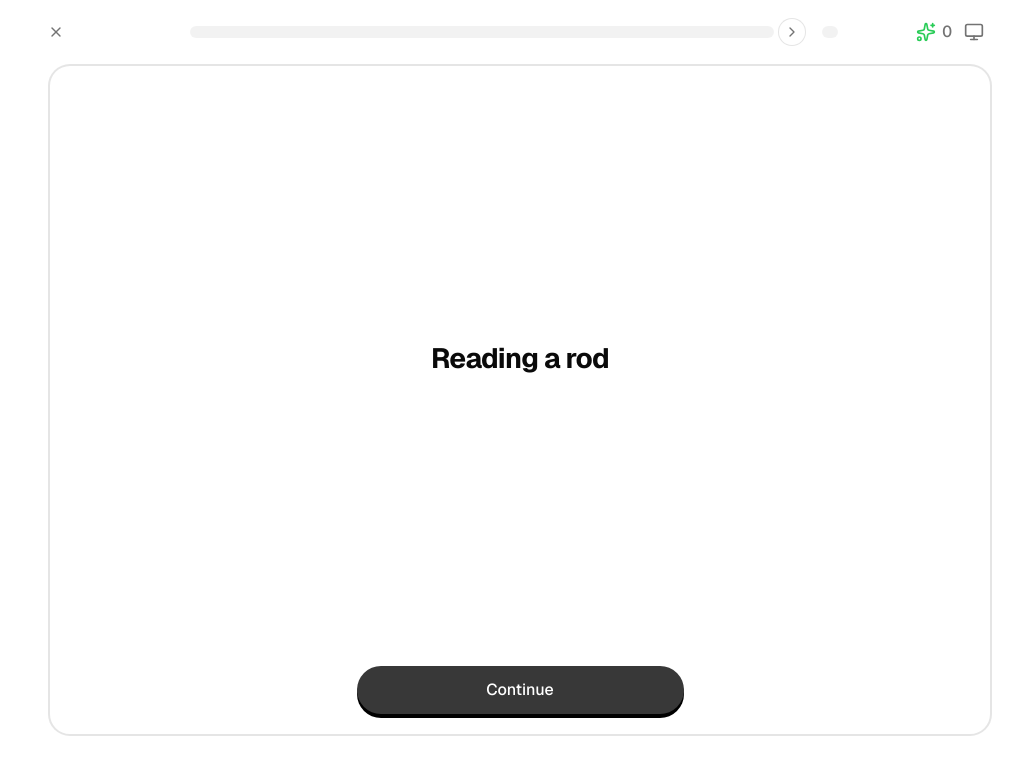
Test: LessonPlayer › walks the explanation step by step beside the question
Step 1. Click the button "Continue" → (520, 690), box [356,666,684,714]
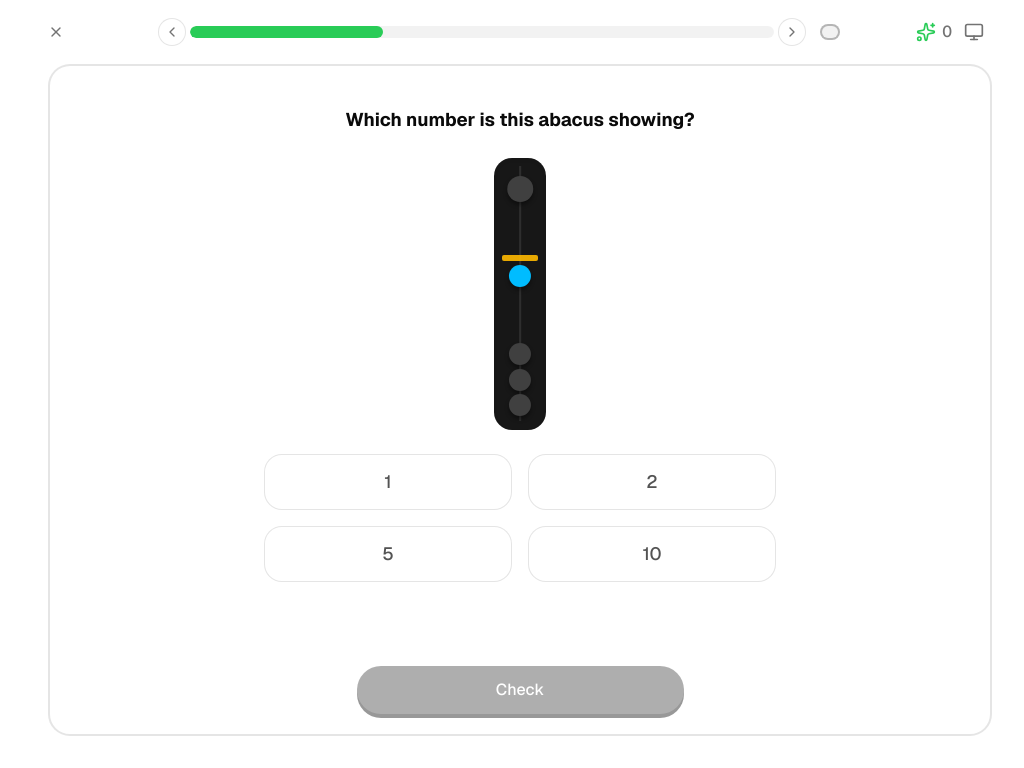
Step 2. Click the button "1" → (388, 482), box [264,454,512,510]
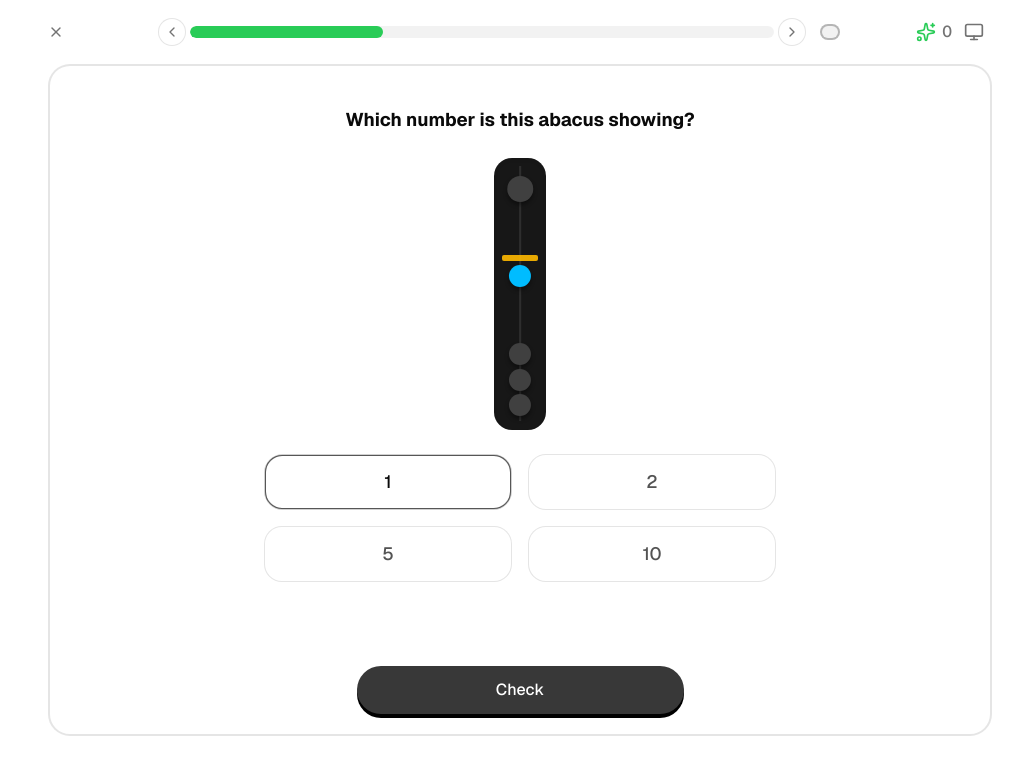
Step 3. Click the button "Check" → (520, 690), box [356,666,684,714]
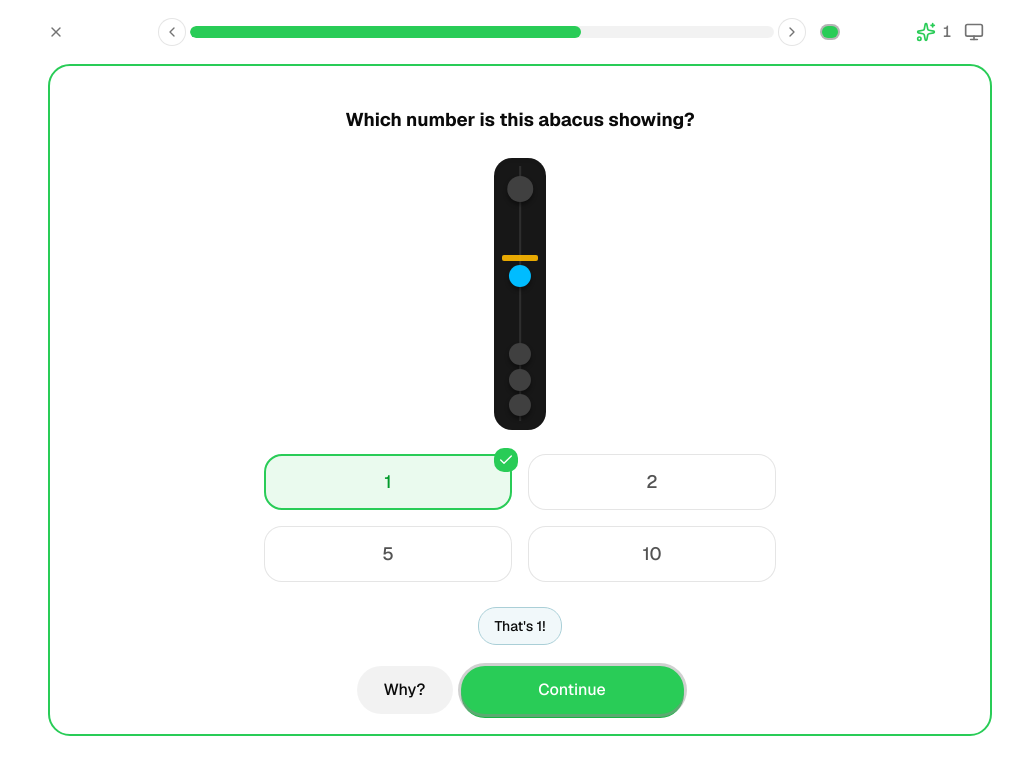
Step 4. Click the button "Why?" → (404, 690), box [356,666,452,714]
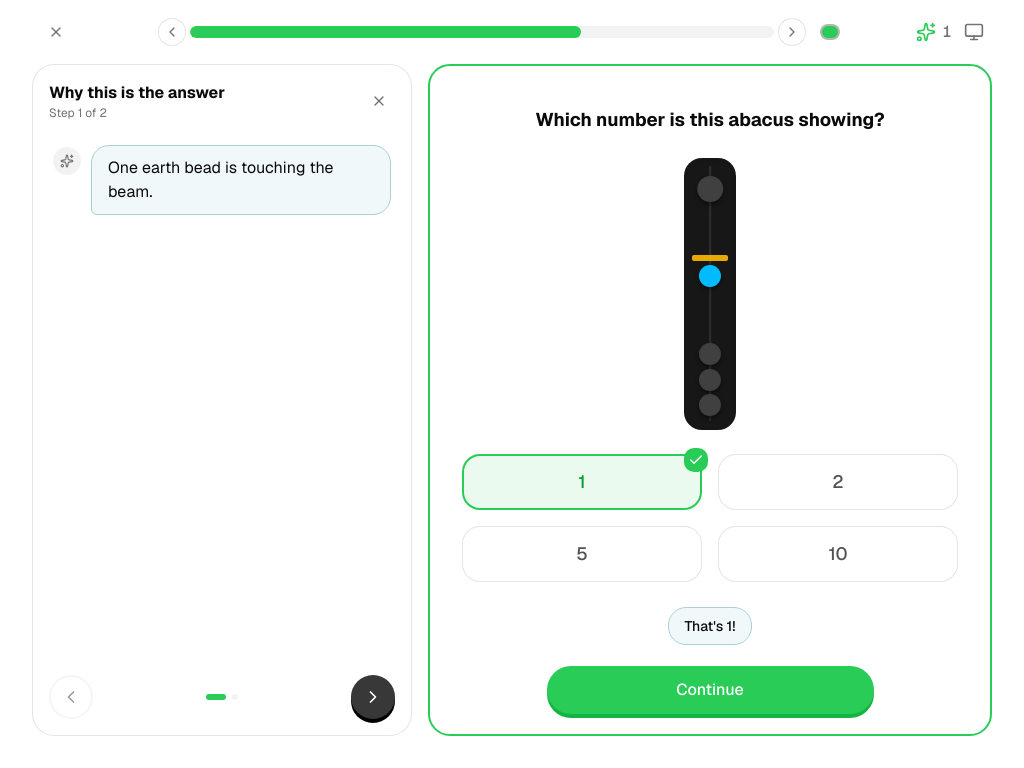
Check: the text "Each earth bead counts as 1, so the rod shows 1." is not shown
Check: the text "One earth bead is touching the beam." is shown, box [108,157,334,202]
Step 5. Click the 2nd button named "Next step" → (373, 697), box [351,675,395,719]
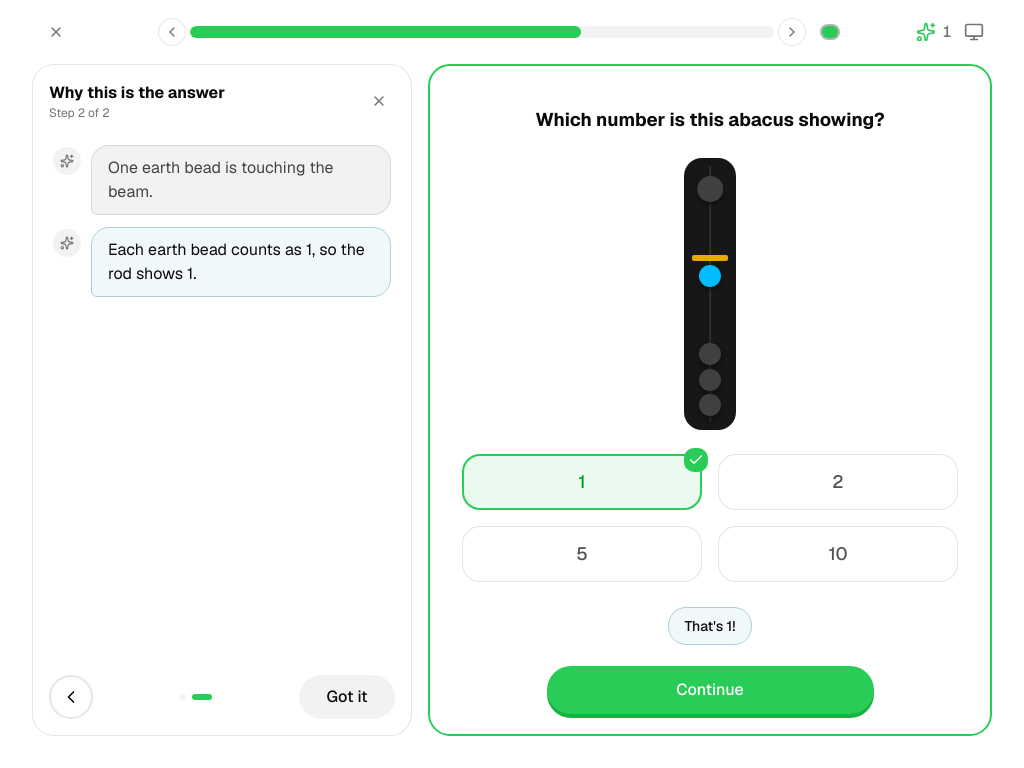
Check: the text "Each earth bead counts as 1, so the rod shows 1." is shown, box [108,238,374,286]
Step 6. Click the button "Got it" → (347, 697), box [299,675,395,719]
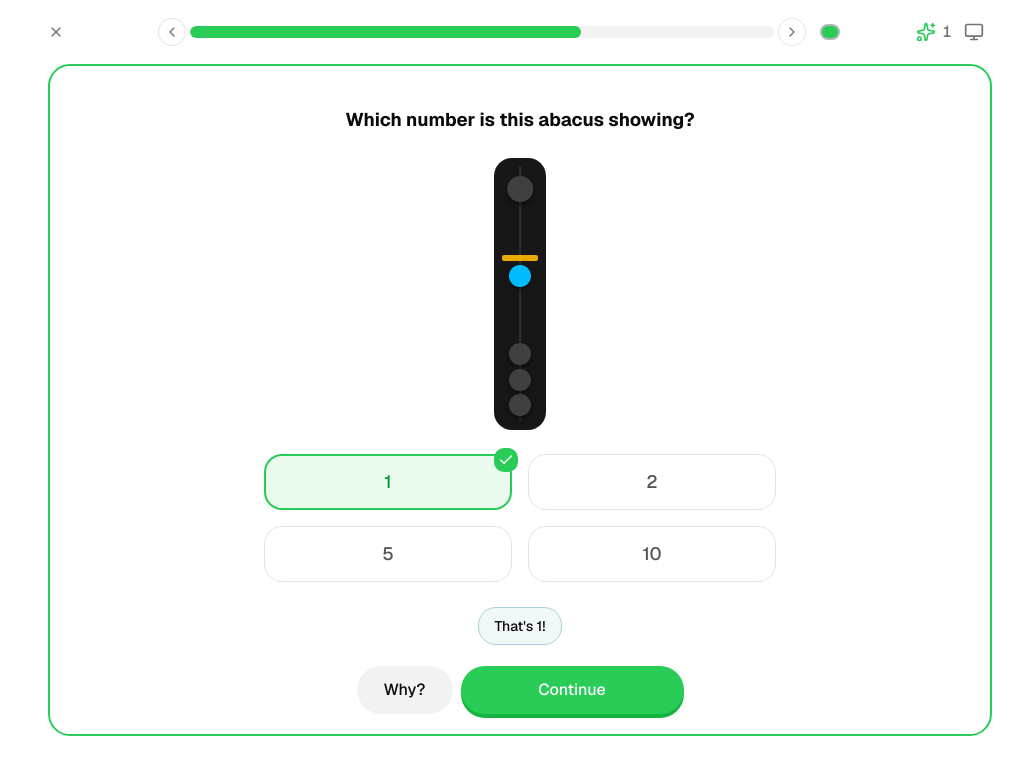
Check: the heading "Why this is the answer" is gone
